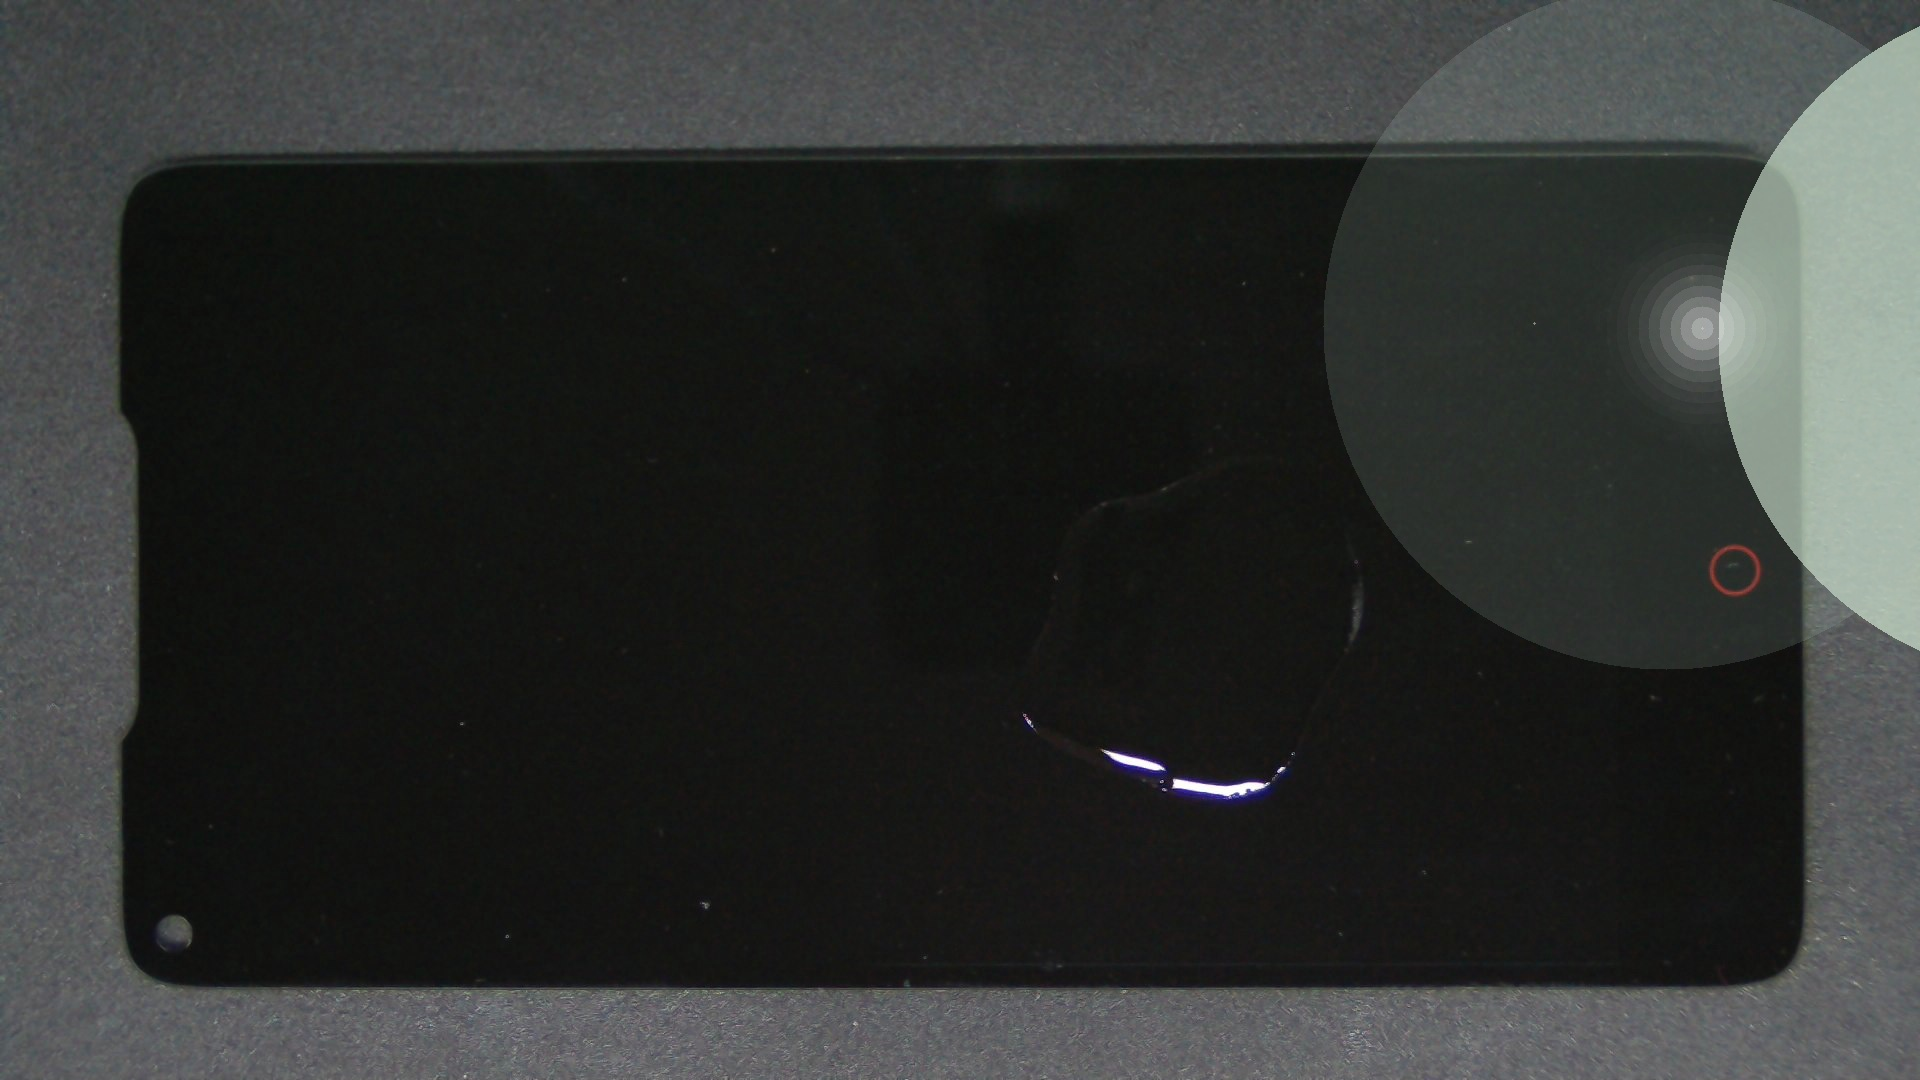oil: (620, 227, 1859, 684)
